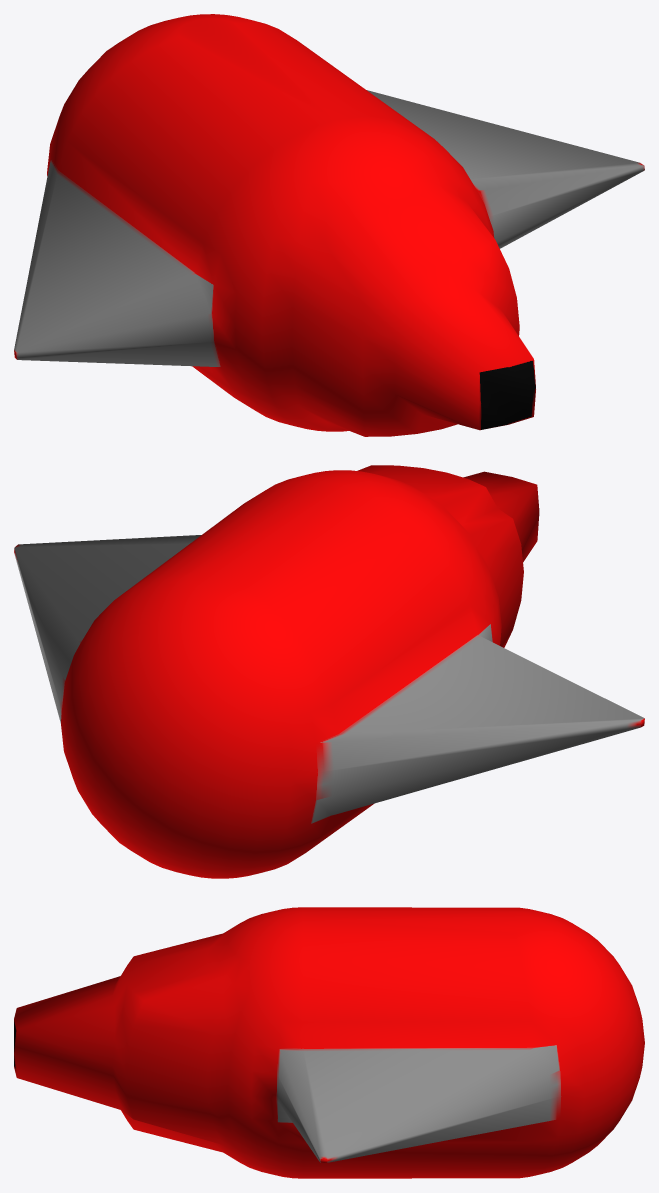
Rendered from BossMissile.obj.
3 views of the same model, one above another, from view 1: azimuth 30°, elevation 25°; view 2: azimuth 150°, elevation 25°; view 3: azimuth 270°, elevation 25° (orthographic). The views are drawn at different scales.
Parts seen in each view (by area): view 1: 球; view 2: 球; view 3: 球.
Part boxes in pixels (box(x1,y1,x2,y2)): 球: box(14, 14, 644, 436); 球: box(14, 465, 644, 878); 球: box(14, 907, 644, 1178).
Size of the model in its own units: 1.14 by 0.5092 by 1.18.
1 material, 1 textured.
